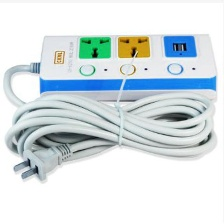three_eye_plug: (34, 30, 220, 106)
